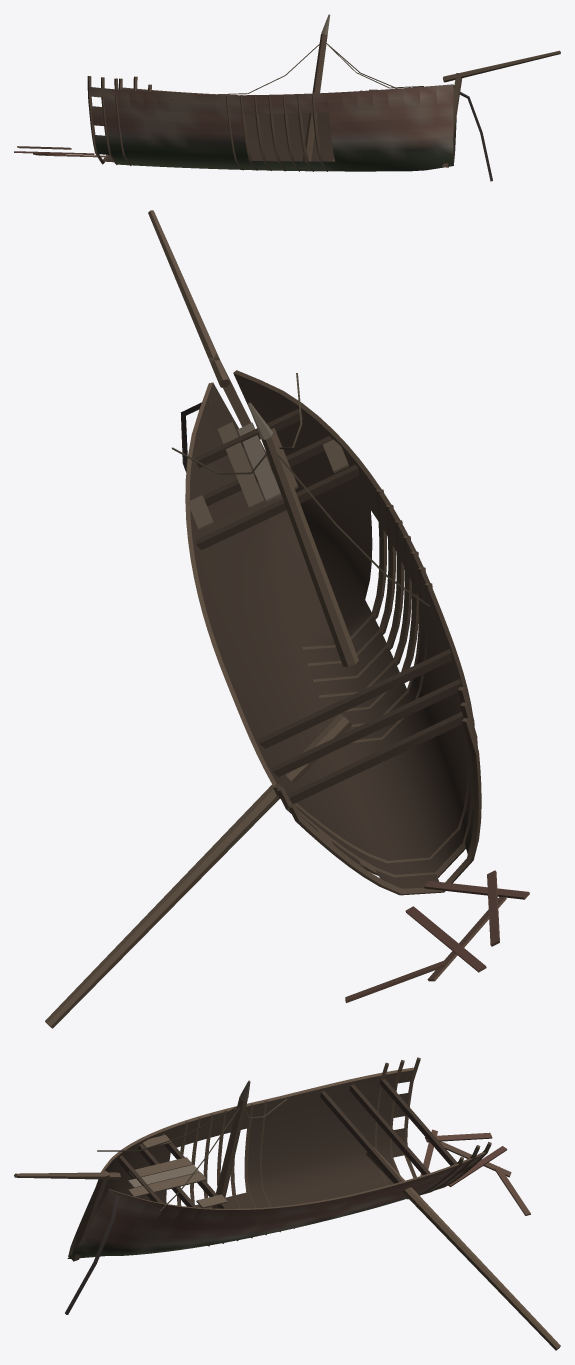
3 renders of one model, top to bottom at view 1: azimuth 30°, elevation 25°; view 2: azimuth 150°, elevation 25°; view 3: azimuth 270°, elevation 25°, orthographic. The views are drawn at different scales.
Visible parts, largest first — view 1: schooner_wreck; view 2: schooner_wreck; view 3: schooner_wreck.
Part boxes in pixels (box(x1,y1,x2,y2)): schooner_wreck: box(14, 14, 560, 181); schooner_wreck: box(45, 210, 529, 1028); schooner_wreck: box(14, 1057, 560, 1350).
Size of the model in its own units: 19.03 by 11.12 by 19.5.
